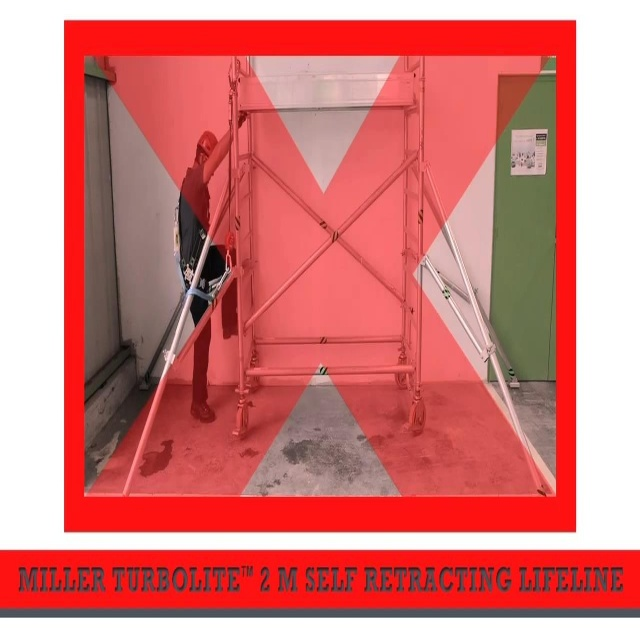Arnes_seguridad: (171, 165, 221, 306)
